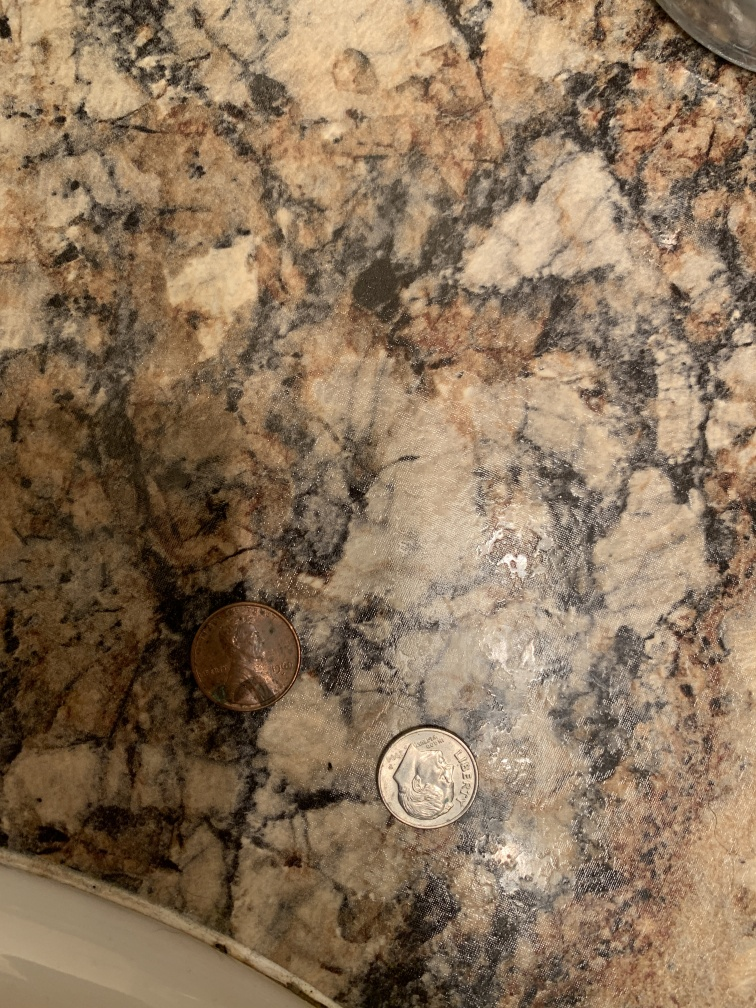dime: (371, 719, 483, 833)
penny: (185, 595, 307, 718)
